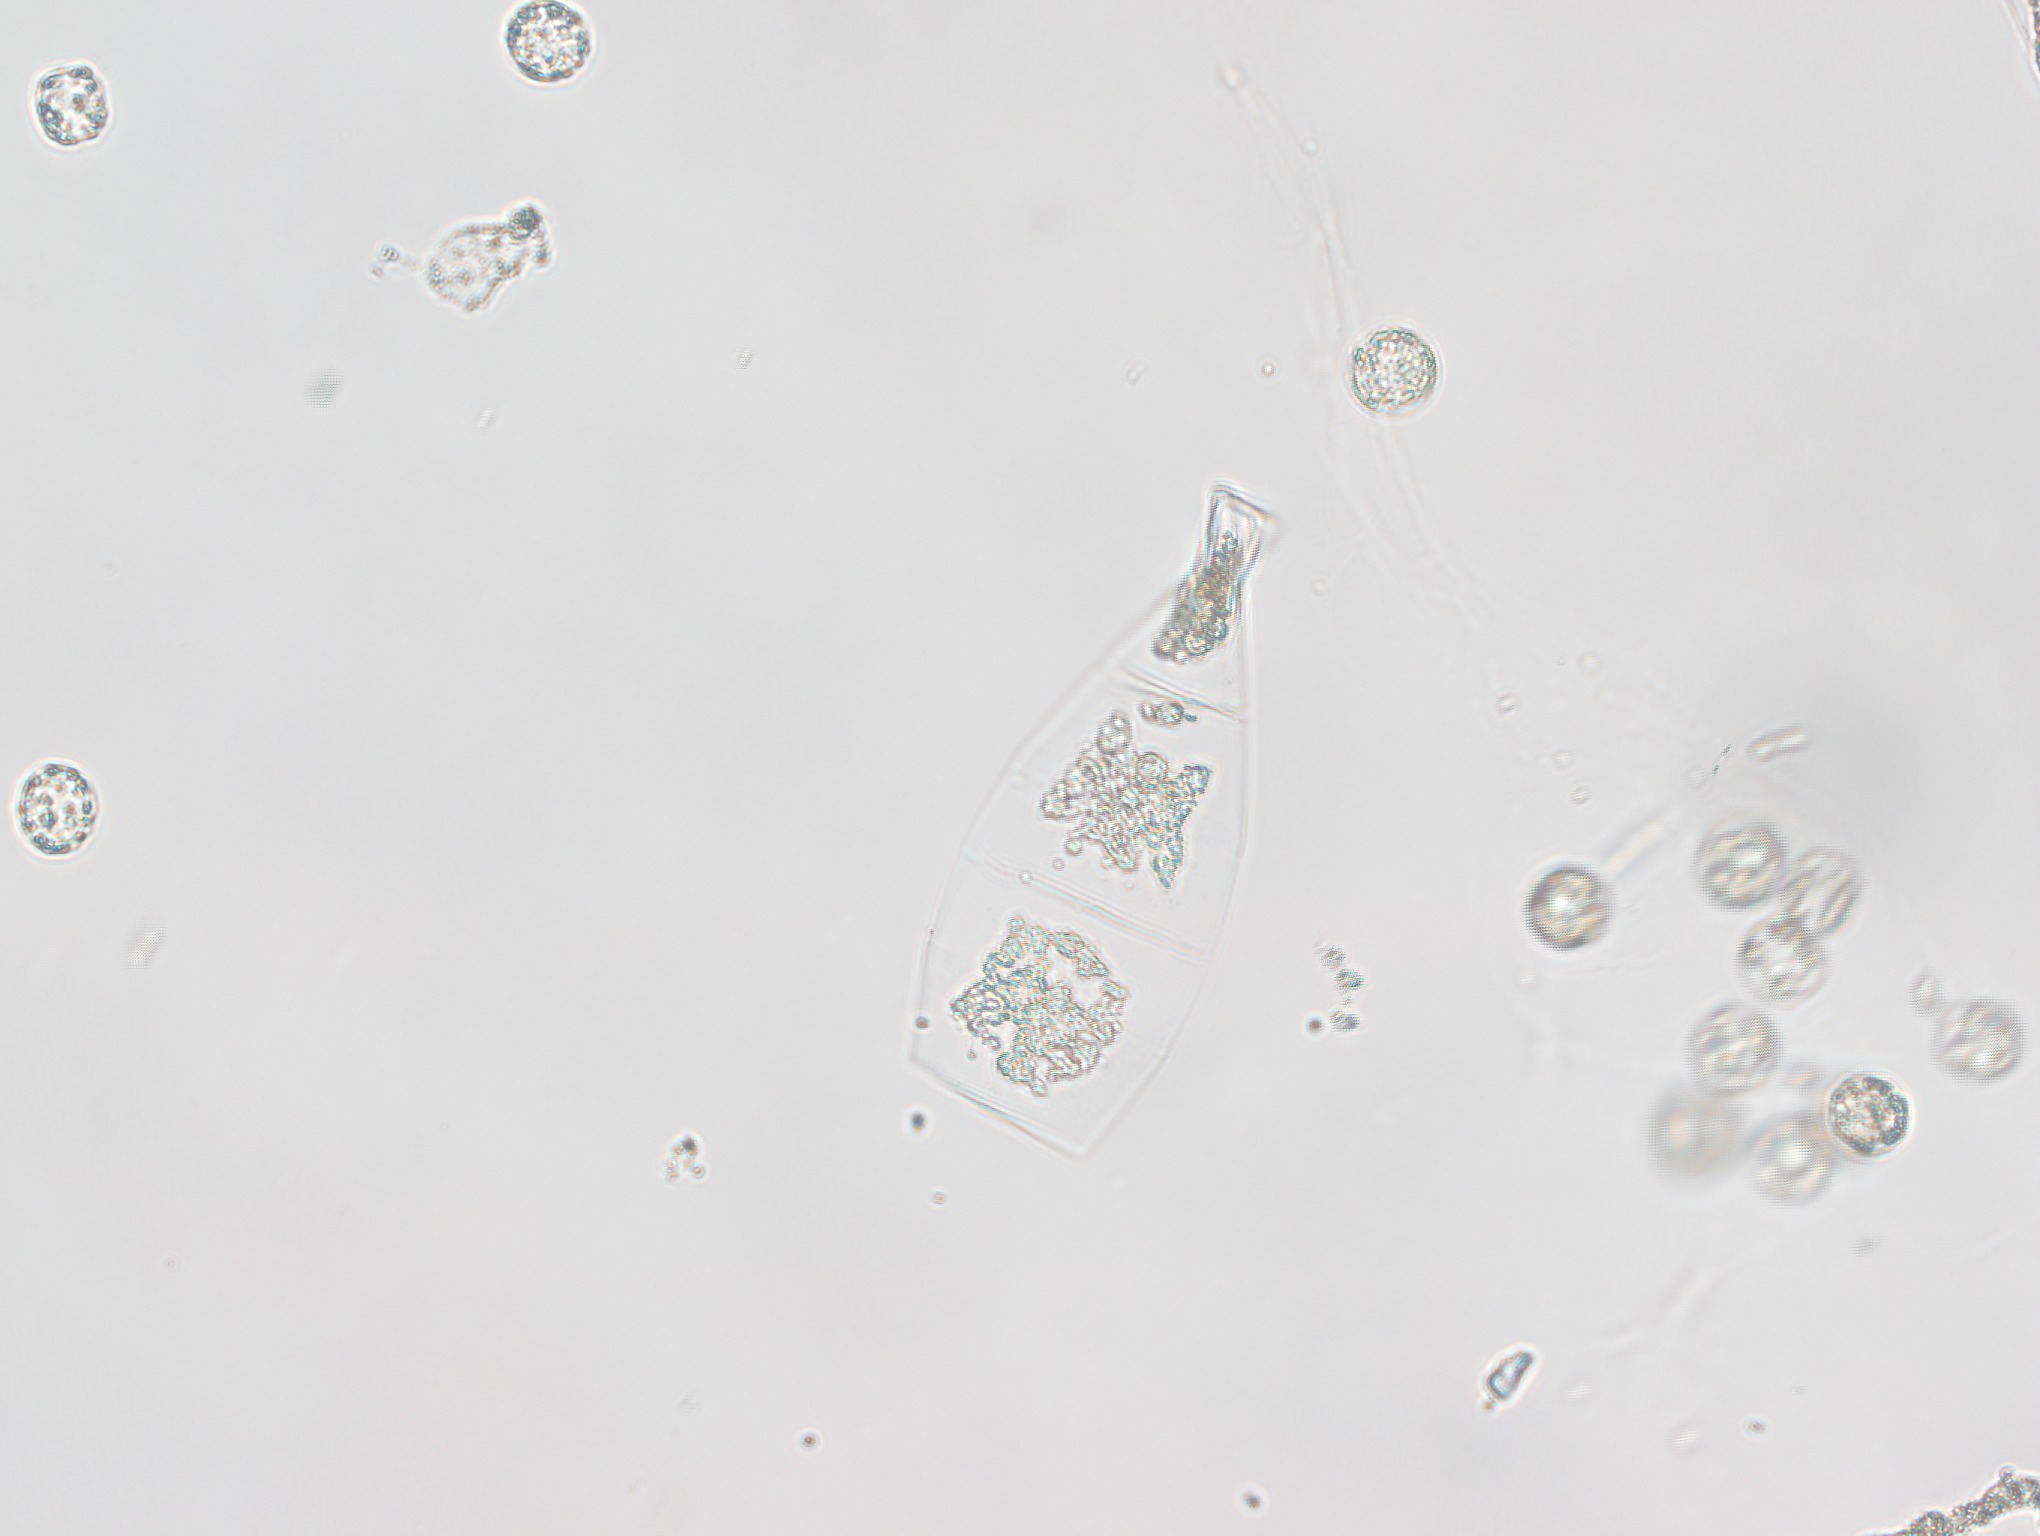helicotheca: (876, 452, 1313, 1179)
